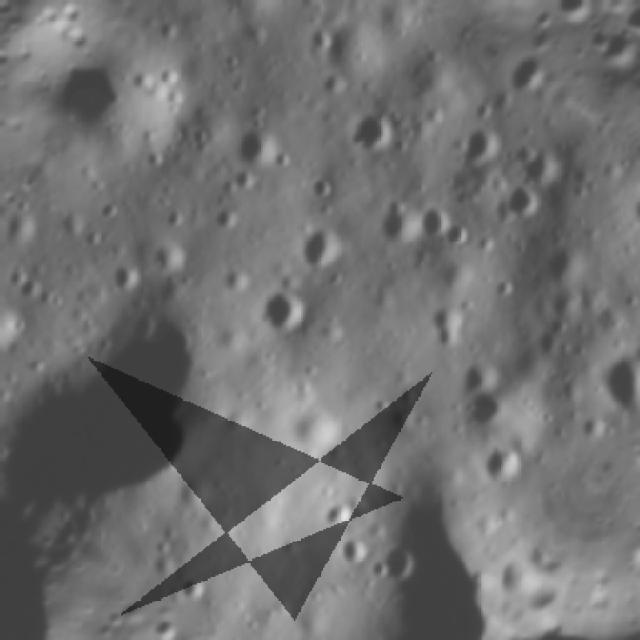crater: (0, 264, 263, 574), (301, 478, 541, 640), (56, 43, 193, 188), (283, 217, 365, 297), (242, 274, 322, 354), (364, 190, 441, 268), (409, 289, 485, 365), (583, 322, 640, 423), (336, 92, 410, 168), (362, 528, 438, 601), (218, 113, 292, 187), (505, 129, 578, 202), (448, 372, 518, 446), (444, 110, 511, 182), (485, 172, 552, 240), (533, 233, 596, 299), (136, 225, 199, 288), (406, 194, 468, 258), (486, 540, 546, 606), (0, 285, 42, 377), (322, 525, 382, 586), (474, 436, 532, 498), (0, 260, 55, 317), (171, 471, 226, 524), (96, 252, 149, 305), (539, 280, 593, 332), (611, 168, 640, 257), (314, 493, 364, 542), (474, 82, 521, 132), (298, 168, 347, 214), (0, 203, 43, 255), (170, 569, 216, 616), (50, 202, 96, 248), (142, 546, 187, 591), (482, 264, 527, 308), (521, 319, 565, 364), (205, 199, 247, 241), (215, 258, 257, 300), (313, 68, 355, 110), (152, 202, 194, 242), (86, 188, 126, 227), (462, 95, 502, 134), (298, 20, 337, 58), (366, 386, 402, 425), (181, 121, 217, 157), (286, 0, 332, 22), (169, 0, 220, 12)
